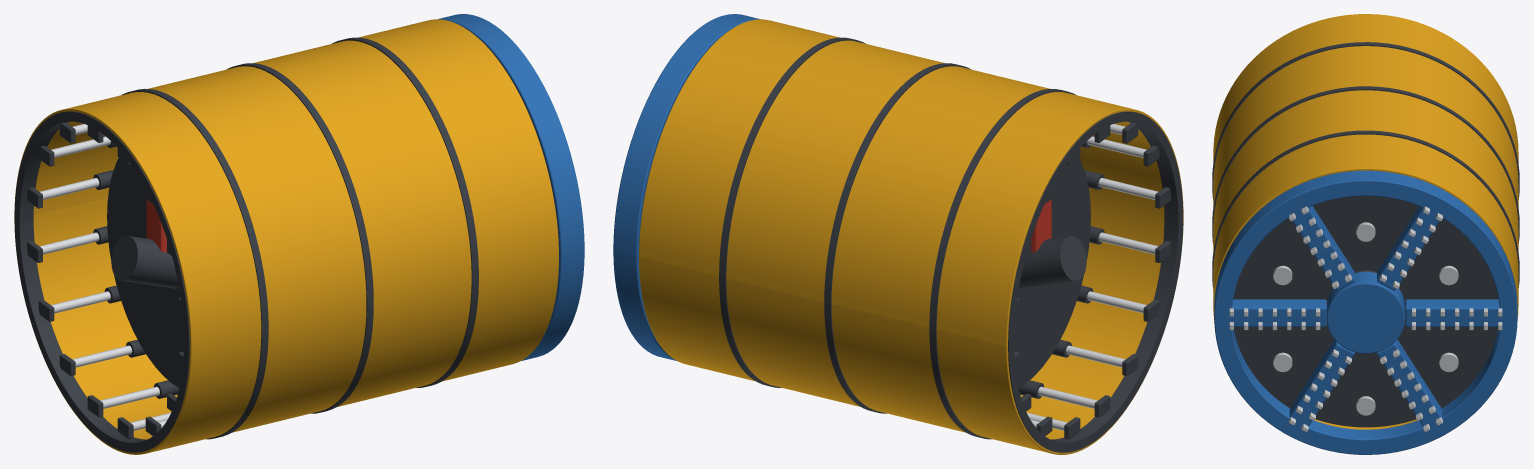
The model's file is shield_machine.glb.
The picture shows the model from 3 angles, left to right: view 1: azimuth 30°, elevation 25°; view 2: azimuth 150°, elevation 25°; view 3: azimuth 270°, elevation 25°; orthographic projection. The views are drawn at different scales.
Parts seen in each view (by area): view 1: skin, band, cutter_hub, jack_body, jack_rod, erector_arm; view 2: skin, band, cutter_hub, jack_body, jack_rod, erector_arm; view 3: skin, cutter_hub, band, bit.
Boxes of the visible parts, box(x1,y1,x2,y2) form: skin: box(14, 19, 558, 454); band: box(14, 37, 478, 452); cutter_hub: box(438, 14, 584, 360); jack_body: box(27, 122, 183, 439); jack_rod: box(39, 124, 170, 430); erector_arm: box(146, 199, 166, 252); skin: box(639, 19, 1183, 454); band: box(719, 37, 1183, 452); cutter_hub: box(613, 14, 760, 360); jack_body: box(1014, 122, 1170, 439); jack_rod: box(1027, 124, 1158, 430); erector_arm: box(1031, 199, 1051, 252); skin: box(1213, 14, 1518, 429); cutter_hub: box(1214, 170, 1517, 454); band: box(1212, 42, 1519, 427); bit: box(1229, 206, 1502, 432).
Bounding box in the file's own units: 9.19 × 7.06 × 7.06.
